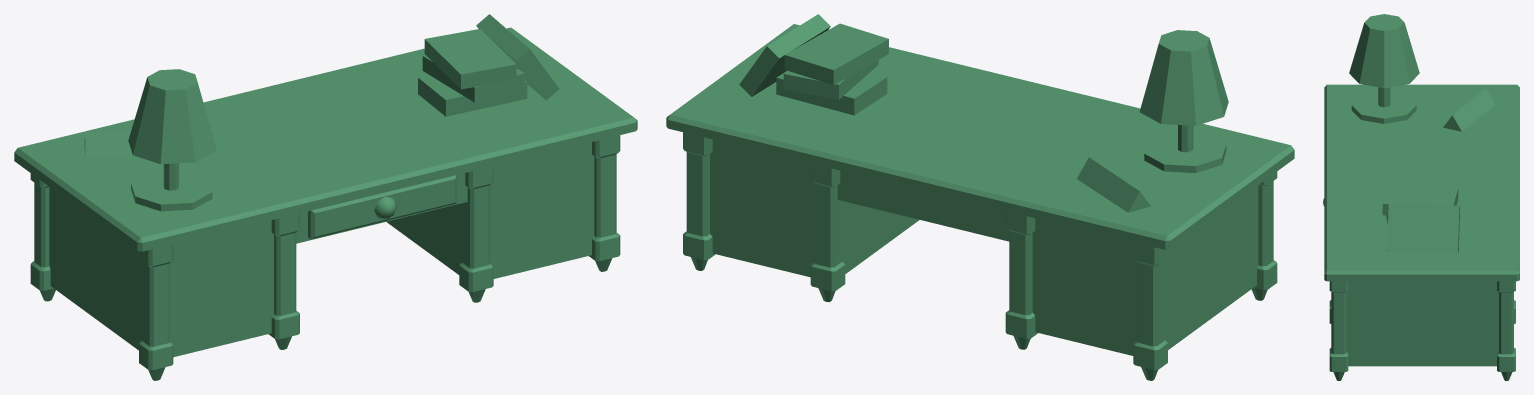
Rendered from Office_Desk_V2.fbx.
The picture shows the model from 3 angles, left to right: view 1: azimuth 30°, elevation 25°; view 2: azimuth 150°, elevation 25°; view 3: azimuth 270°, elevation 25°; orthographic projection. The views are drawn at different scales.
Visible parts, largest first — view 1: Office_Desk; view 2: Office_Desk; view 3: Office_Desk.
Boxes of the visible parts, x1,y1,x2,y2 form: Office_Desk: [14, 14, 637, 380]; Office_Desk: [666, 14, 1294, 380]; Office_Desk: [1323, 14, 1519, 380].
Bounding box in the file's own units: 414 × 211 × 183.
